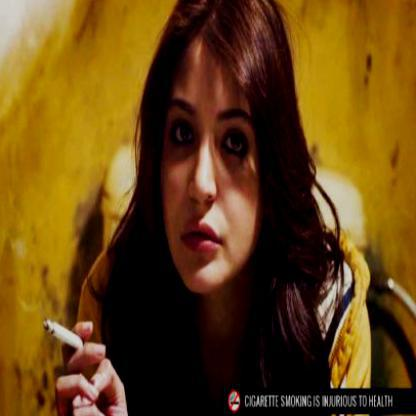cigarette: (42, 316, 86, 352)
person: (109, 0, 361, 415)
